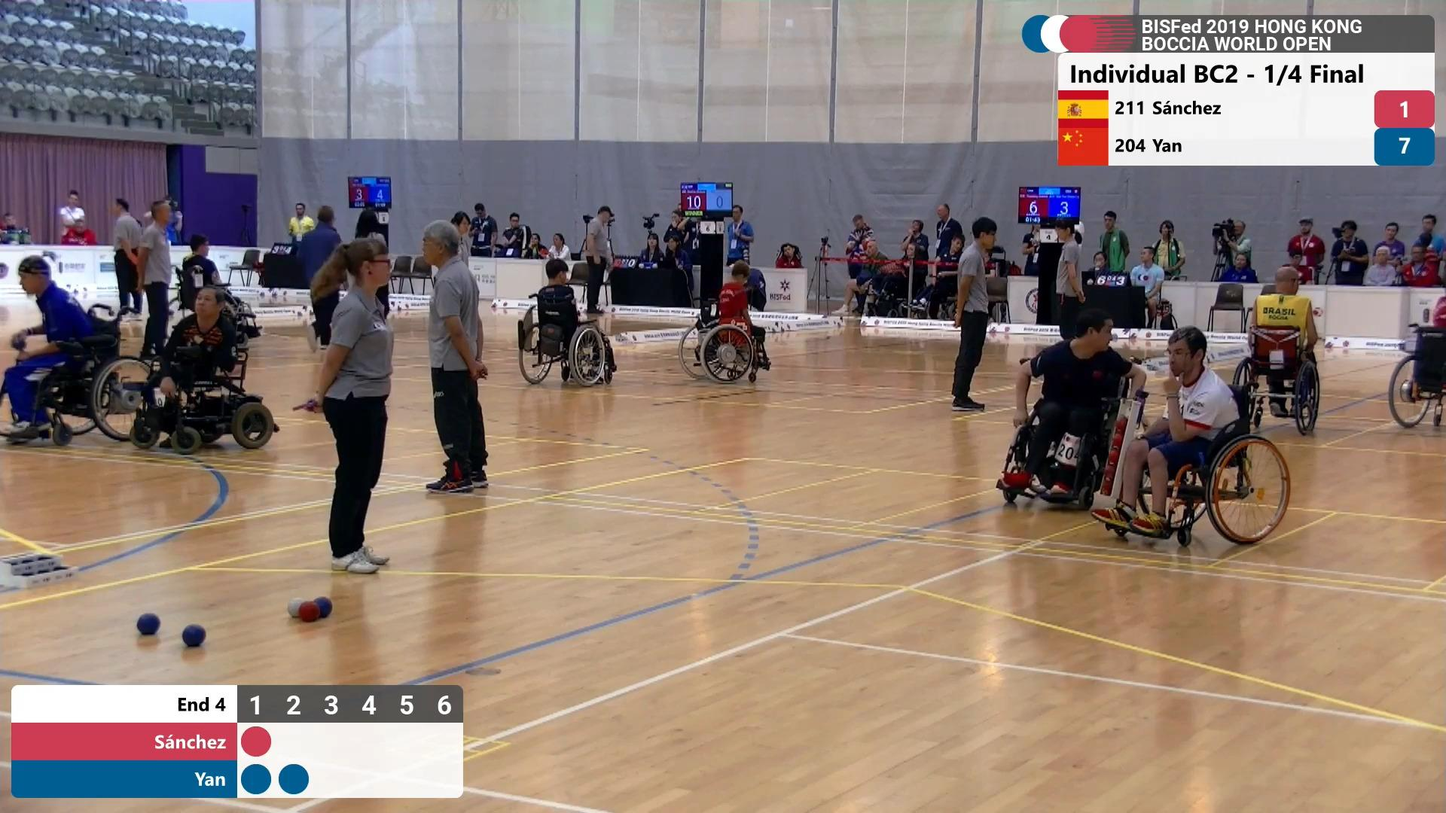blue_ball: (135, 611, 162, 637), (181, 623, 208, 649), (313, 595, 334, 621)
red_ball: (297, 600, 322, 625)
white_ball: (285, 598, 306, 618)
